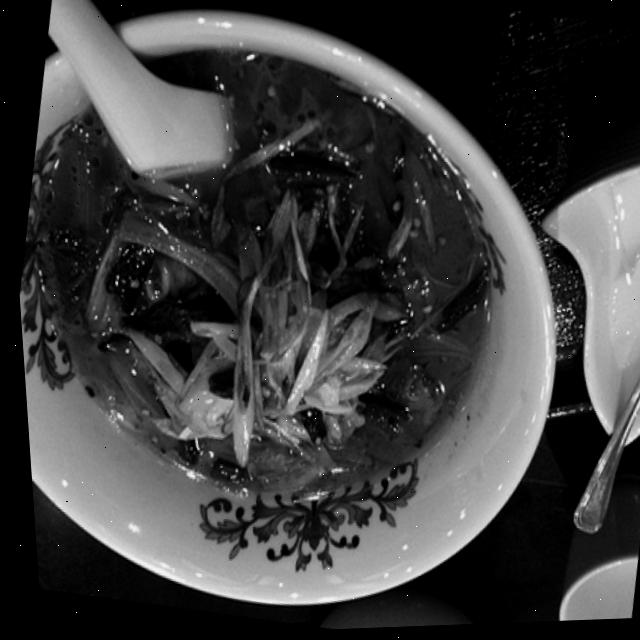面条主食: (0, 0, 593, 640)
